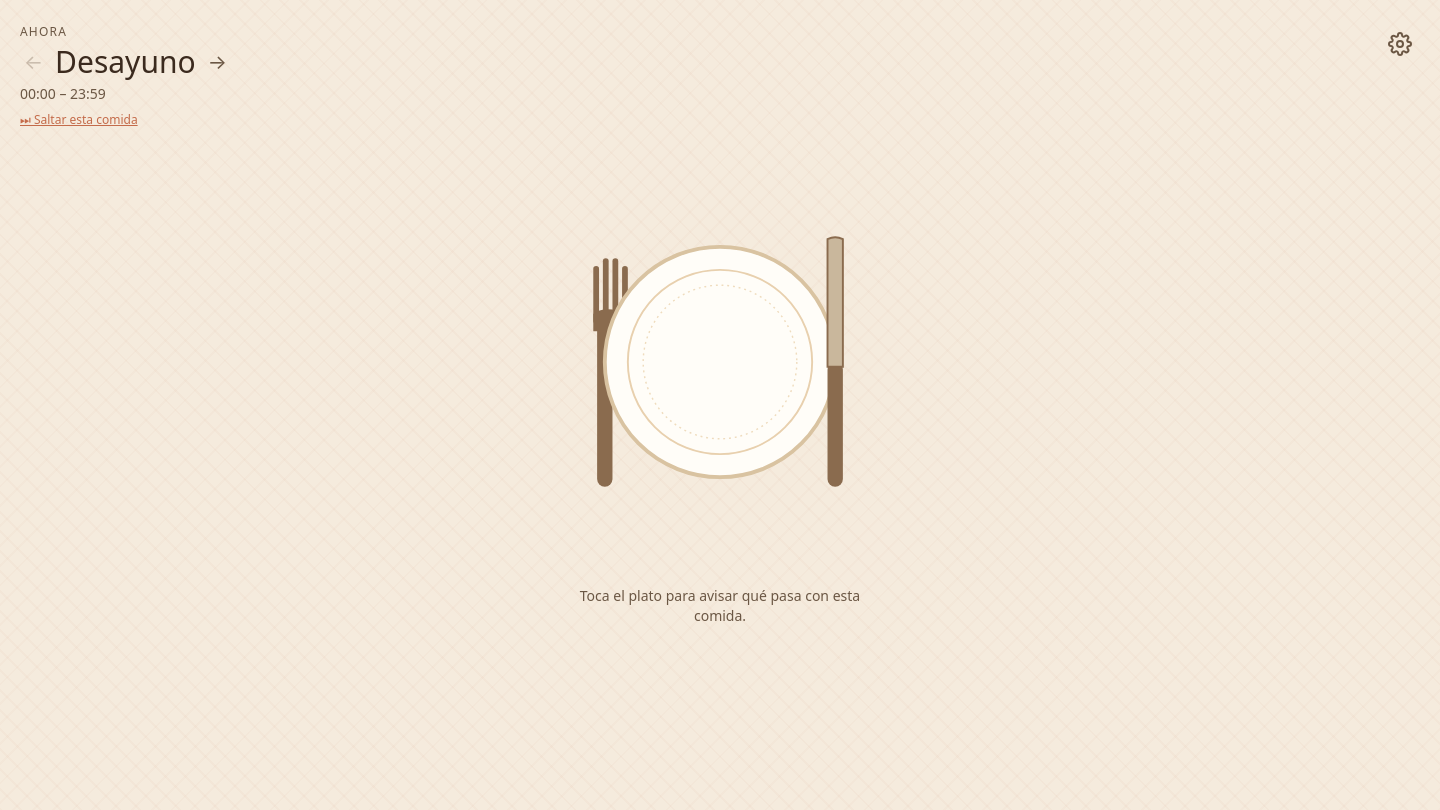
it: App — error de envío + reintento + WhatsApp manual › al reintentar y tener éxito, limpia el banner y persiste historial
Click the button named "avisar qué pasa" at (720, 362), box top-left (528, 170), bottom-right (912, 554)
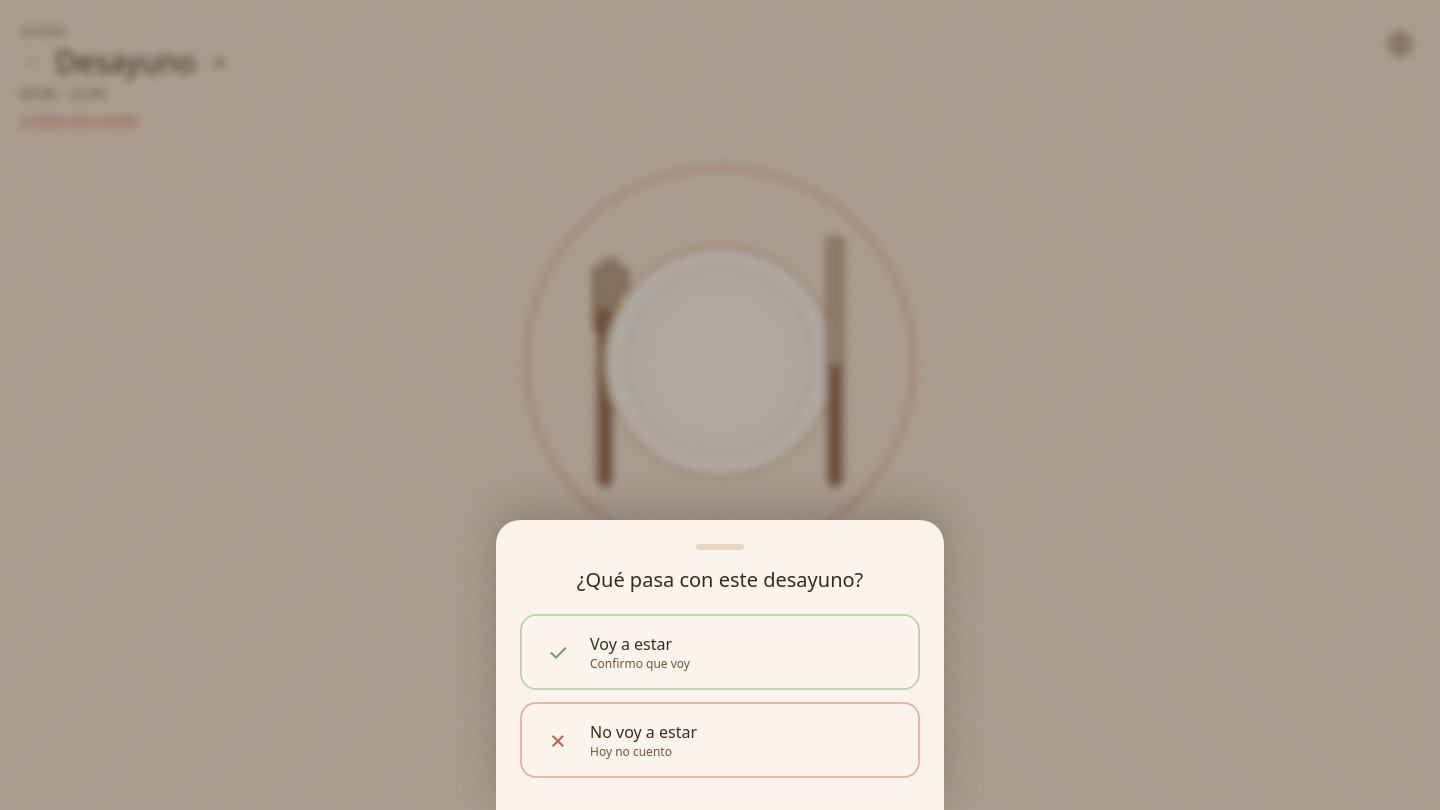
Click the button "✗ No voy a estar Hoy no cuento" at (644, 732), box top-left (520, 702), bottom-right (920, 778)
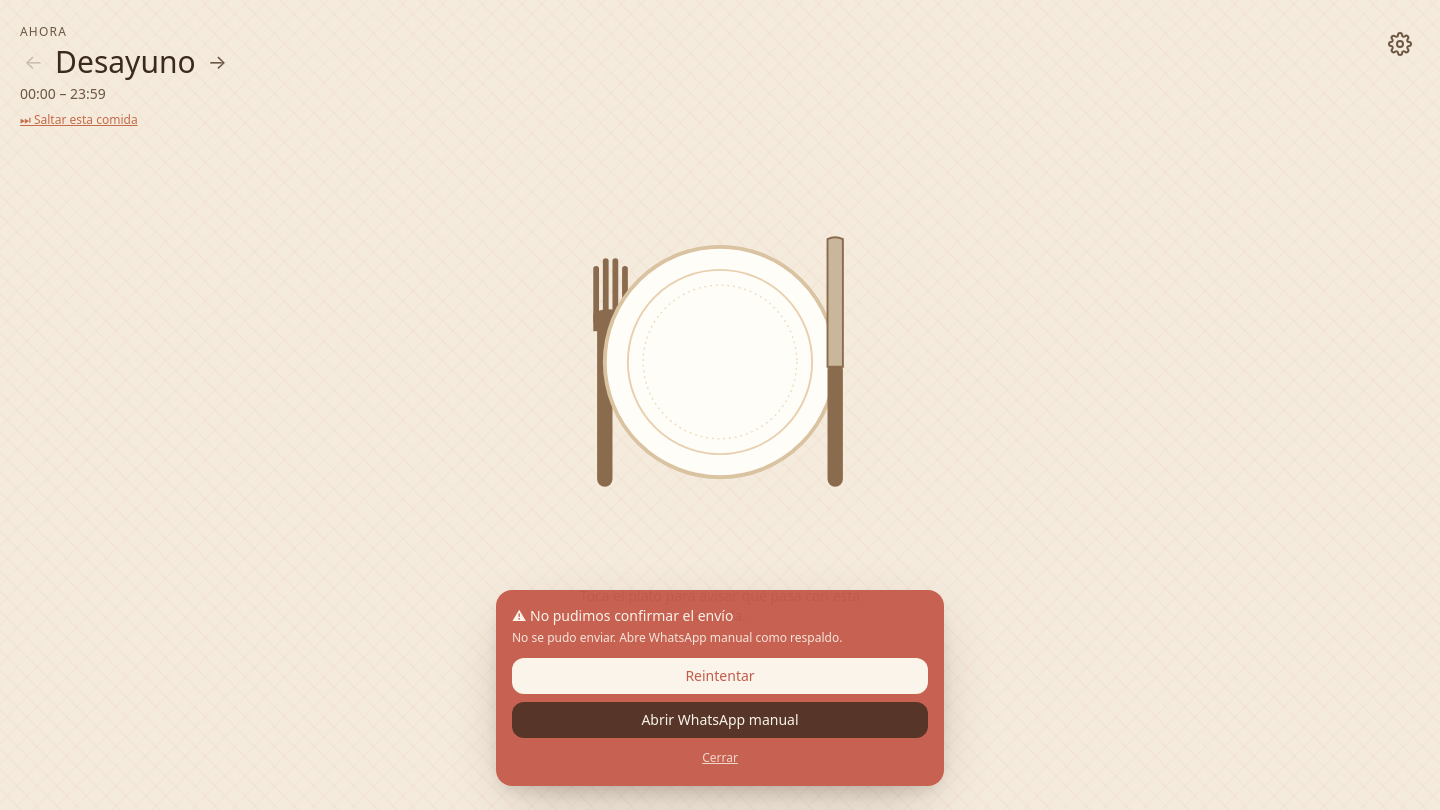
Check: the text "⚠ No pudimos confirmar el envío" is shown, box top-left (512, 606), bottom-right (734, 625)
Click the button "Reintentar" at (720, 676), box top-left (512, 658), bottom-right (928, 694)
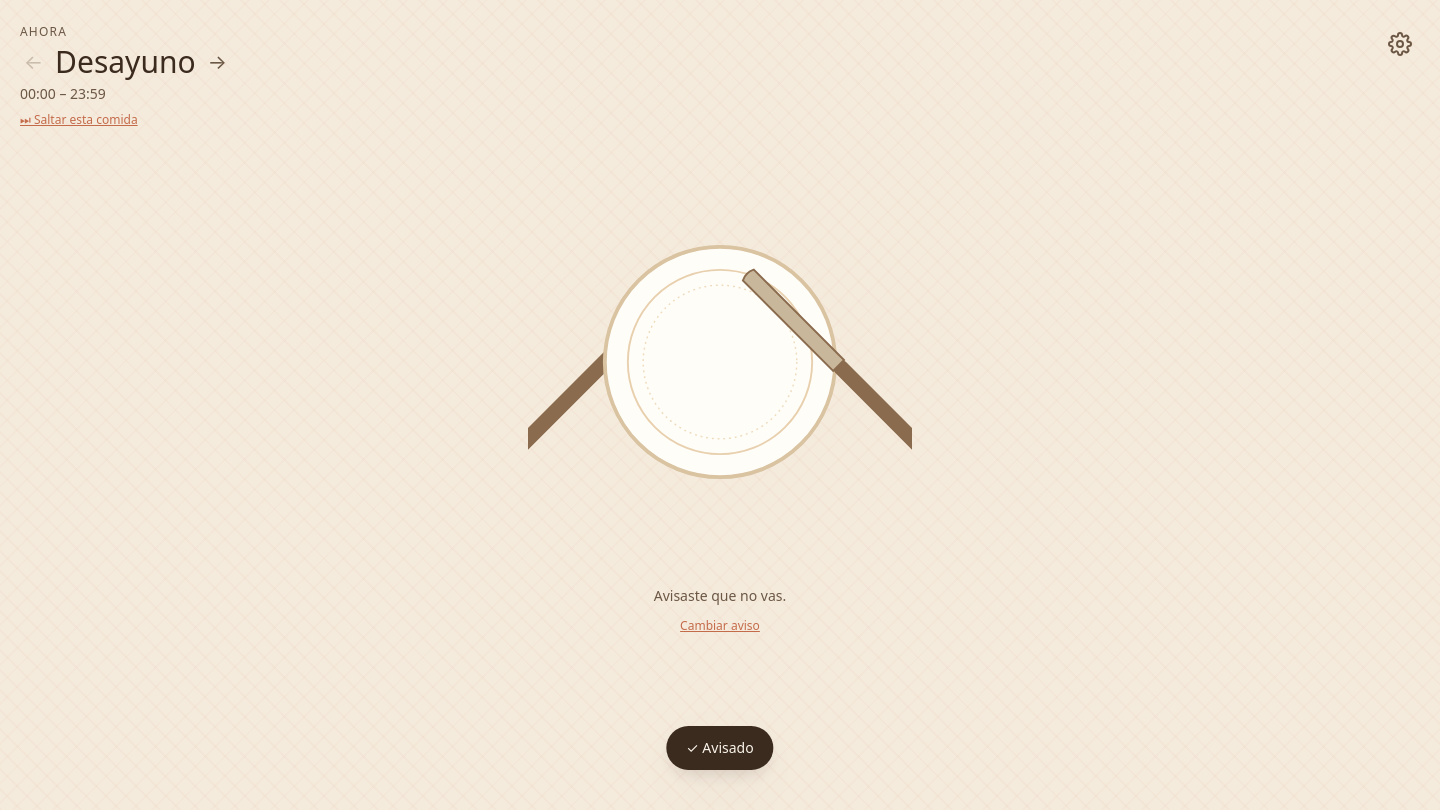
Check: the text "No pudimos confirmar" is gone
